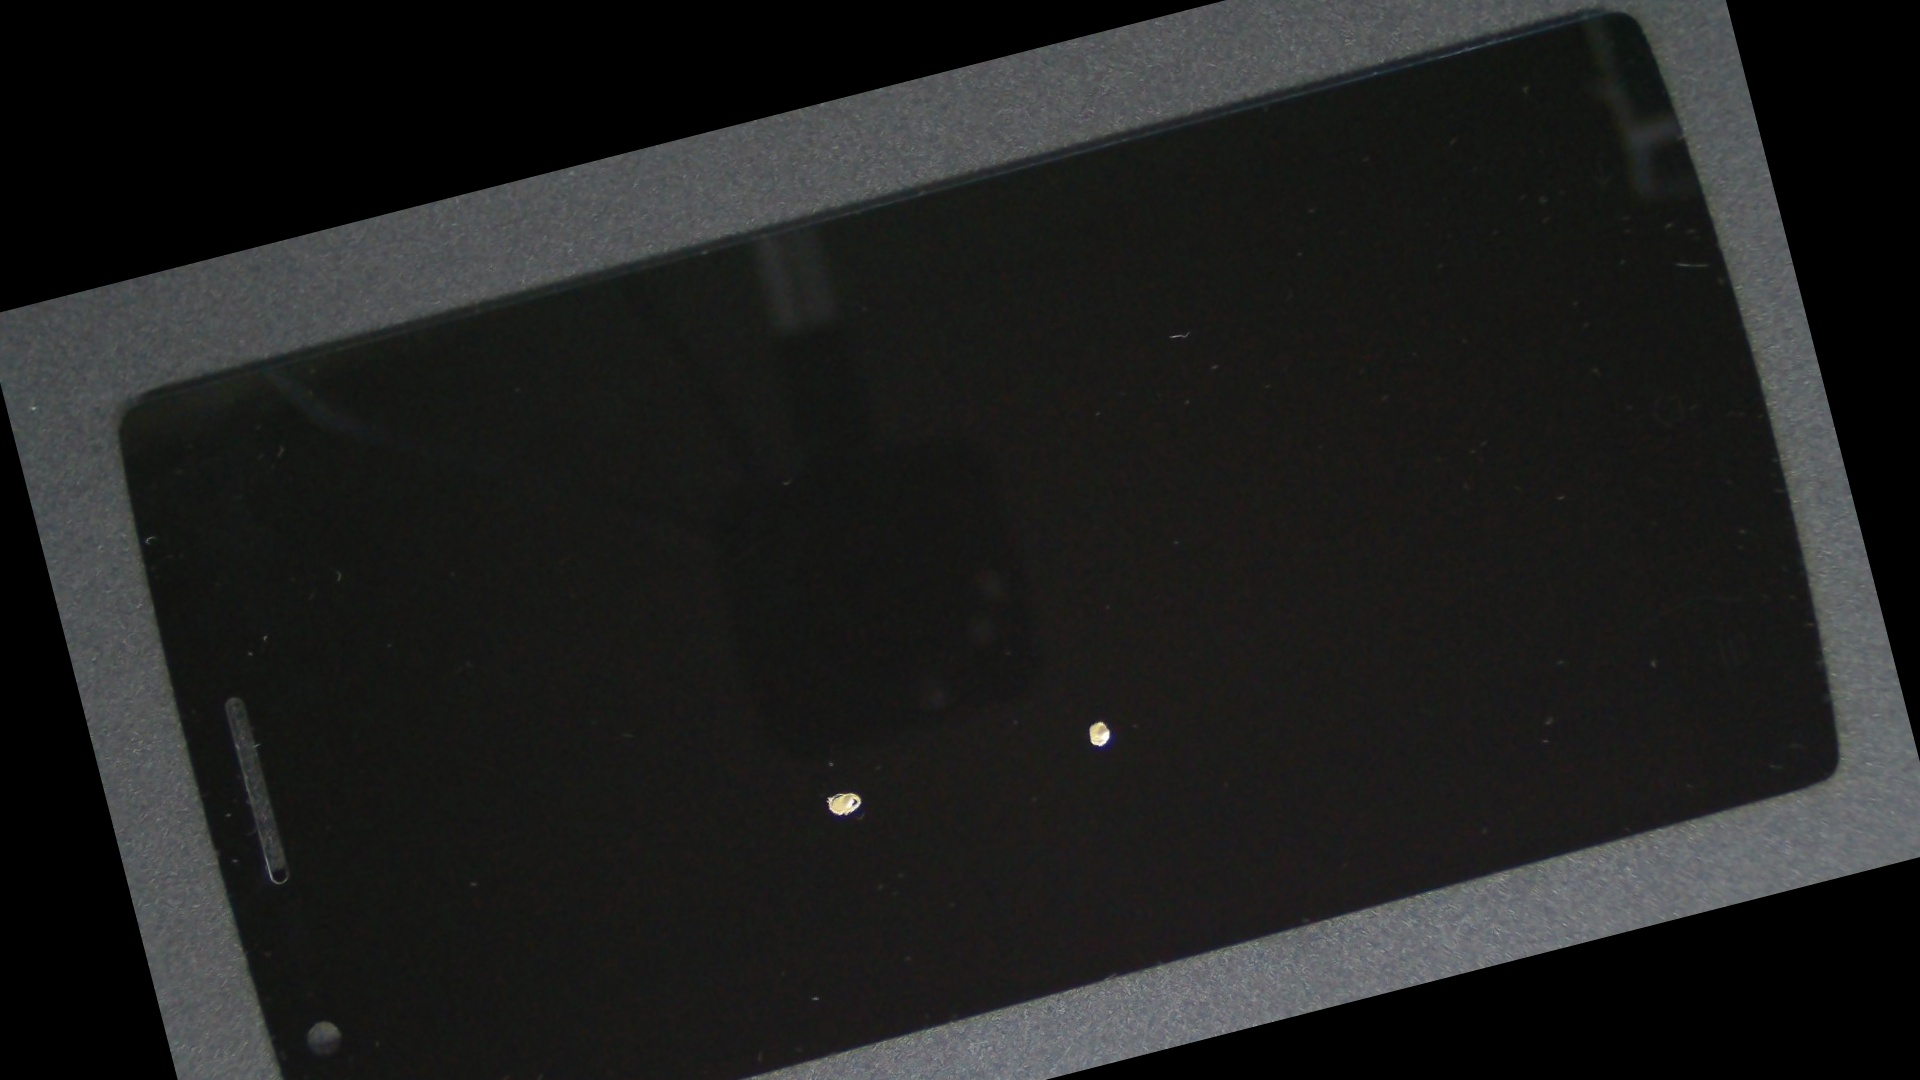oil: (541, 277, 1652, 1080), (411, 378, 1265, 1080)
